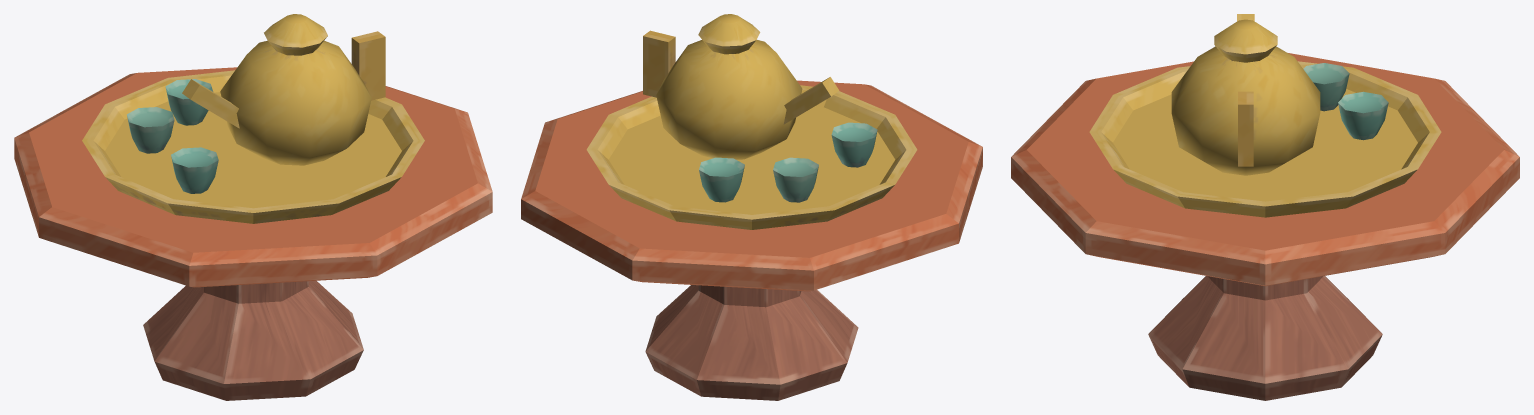
The model's file is tea_table.fbx.
3 renders of one model, left to right at view 1: azimuth 30°, elevation 25°; view 2: azimuth 150°, elevation 25°; view 3: azimuth 270°, elevation 25°, orthographic. The views are drawn at different scales.
Visible parts, largest first — view 1: tea_table; view 2: tea_table; view 3: tea_table.
Part boxes in pixels (x1=…): tea_table: x1=14, y1=14, x2=492, y2=400; tea_table: x1=521, y1=14, x2=982, y2=400; tea_table: x1=1011, y1=14, x2=1519, y2=400.
Size of the model in its own units: 2.6 by 1.96 by 2.6.
Materials: 1 (1 with a texture image).
